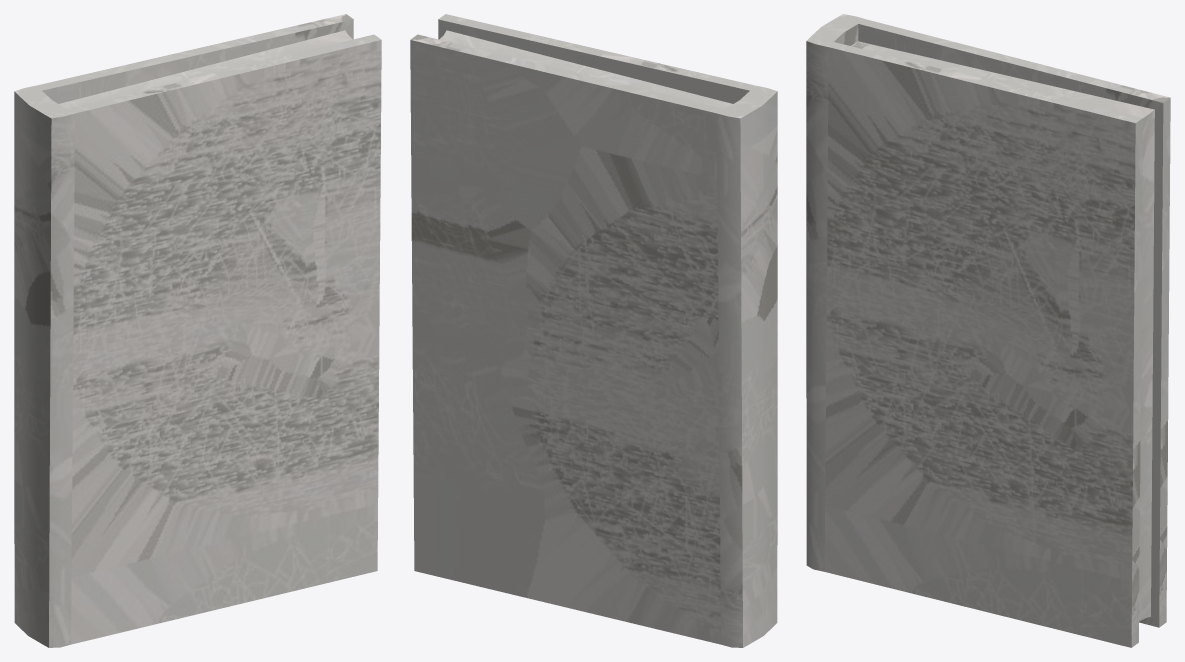
Rendered from 3book.fbx.
3 views of the same model, side by side, from view 1: azimuth 30°, elevation 25°; view 2: azimuth 150°, elevation 25°; view 3: azimuth 330°, elevation 25° (orthographic).
Parts seen in each view (by area): view 1: defaultMaterial.009; view 2: defaultMaterial.009; view 3: defaultMaterial.009.
Part boxes in pixels (bbox=[...]): defaultMaterial.009: bbox=[14, 14, 381, 647]; defaultMaterial.009: bbox=[410, 14, 777, 647]; defaultMaterial.009: bbox=[806, 14, 1170, 647].
Bounding box in the file's own units: 29.94 × 45.44 × 6.03.
